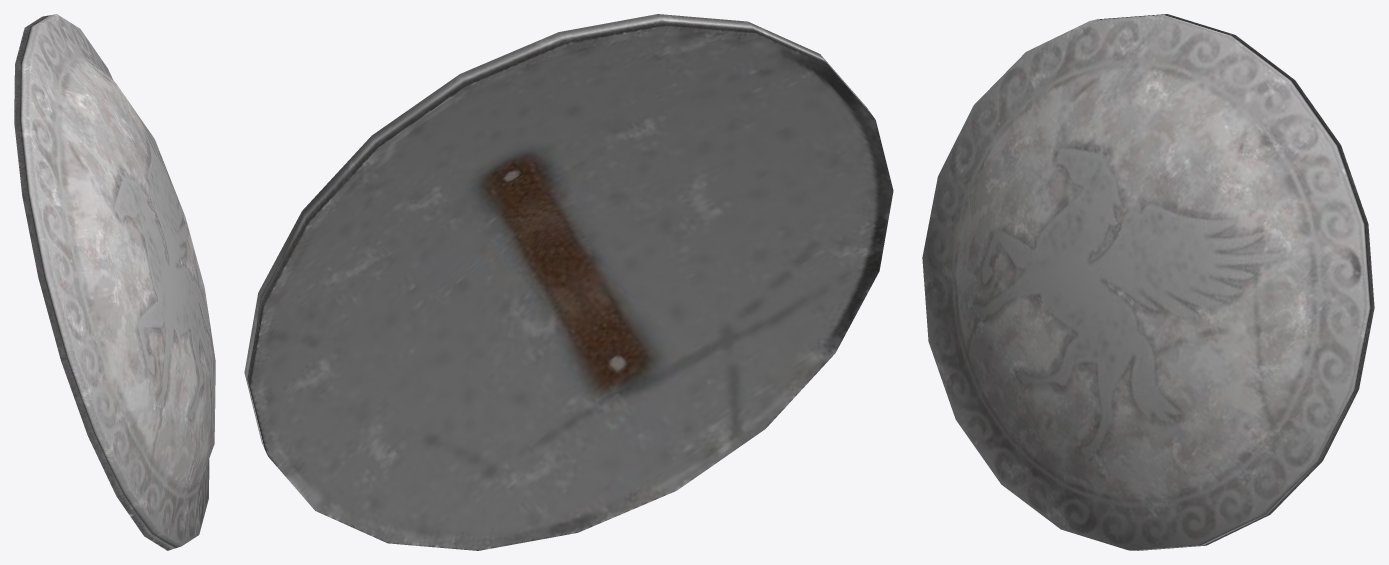
Rendered from rider-shield-ranged-base.glb.
3 renders of one model, left to right at view 1: azimuth 30°, elevation 25°; view 2: azimuth 150°, elevation 25°; view 3: azimuth 270°, elevation 25°, orthographic. The views are drawn at different scales.
Size of the model in its own units: 0.6684 by 0.9505 by 0.8429.
1 material, 1 textured.
